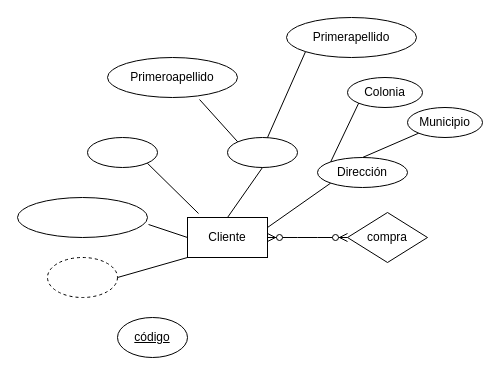
Image size: 500x375. Some labels were removed from this diagram. The box of each missing label's shape, as (x1, y1, x2, y2) in pixels:
Dui: (86, 136, 158, 168)
Edad: (46, 256, 118, 298)
Fechadenacimiento: (16, 196, 148, 238)
Nombre: (226, 136, 298, 168)
